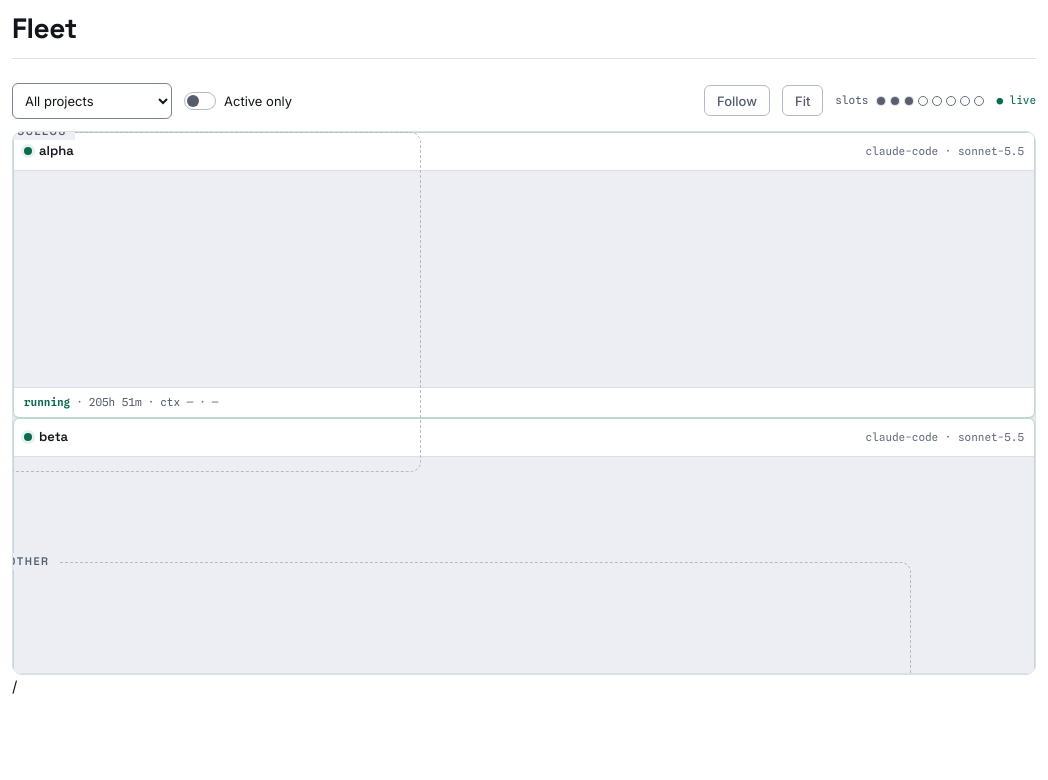
Test case: Fleet › filters by project and by Active only
Expected: the element "alpha" is shown, [13,132,1035,418]
Select "other" in the dropdown named "Project": (92, 101) [12,83,172,119]
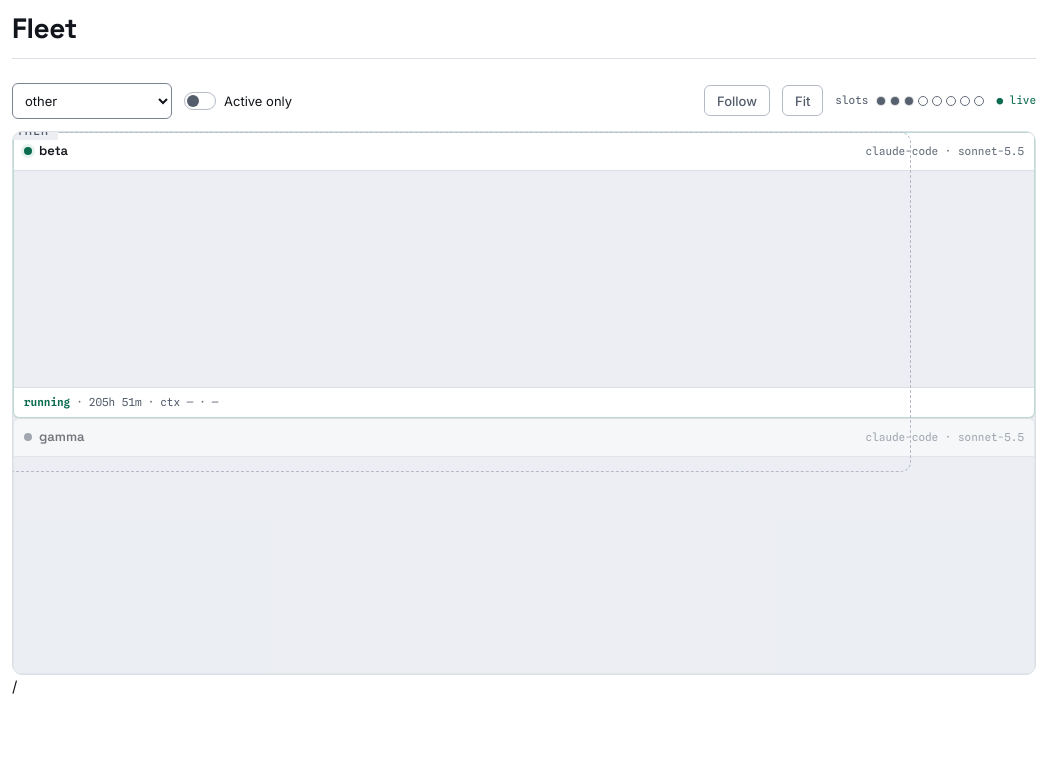
Now the text "alpha" is gone
Now the element "gamma claude-code · sonnet-5.5 done · — · ctx — · —" is shown, box [13,418,1035,675]
Click the switch labelled "Active only": (200, 101) [184,92,216,110]
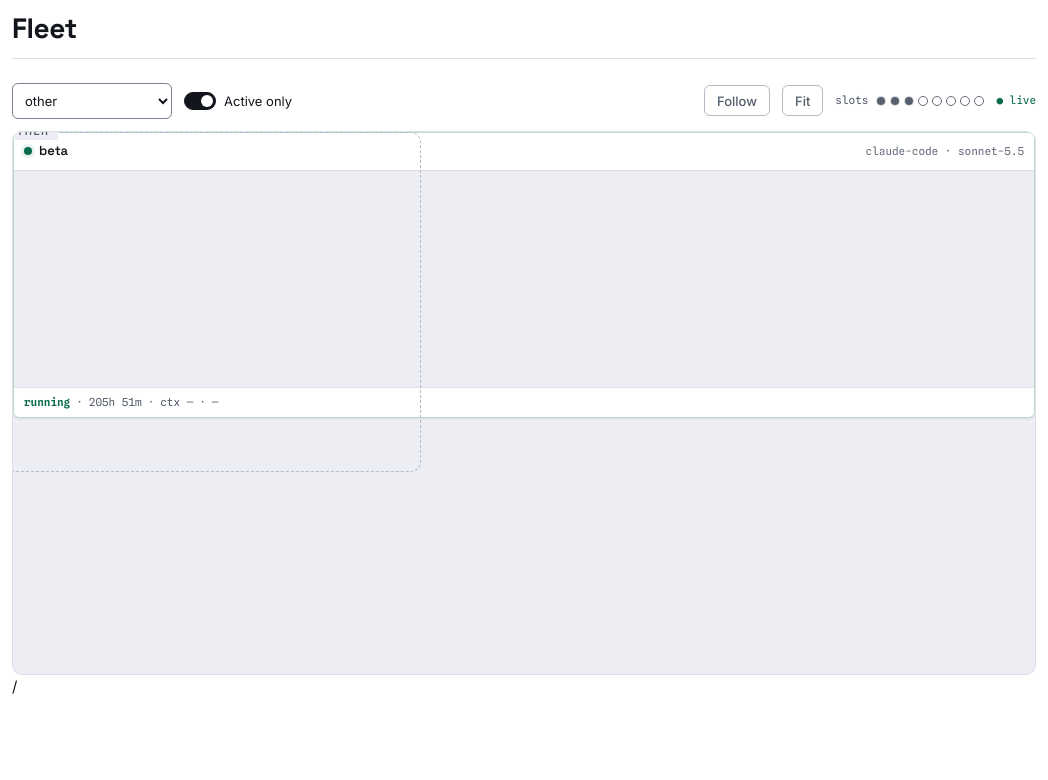
Expected: the element "beta claude-code · sonnet-5.5 running · 205h 51m · ctx — · —" is shown, [13,132,1035,418]
Now the text "gamma" is gone
